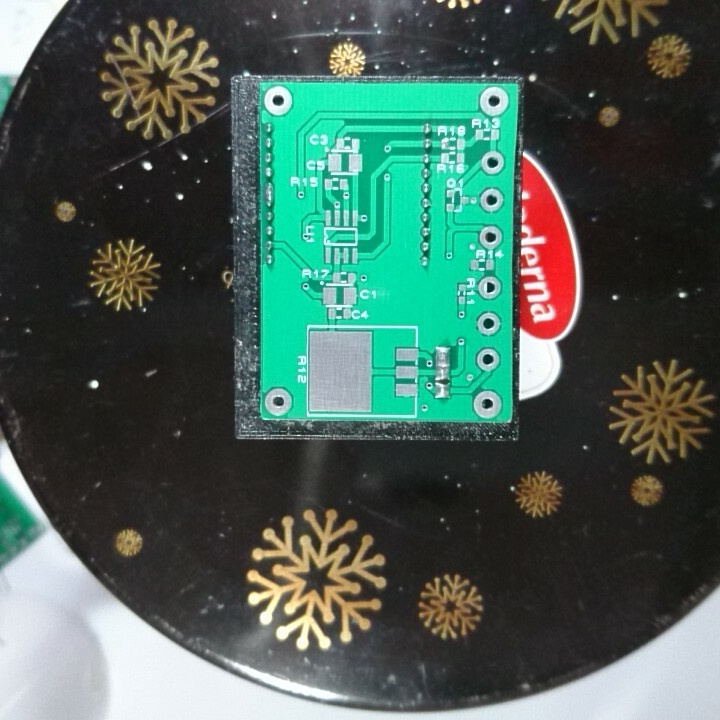F: (261, 81, 296, 117), (477, 84, 511, 118), (261, 384, 295, 418), (471, 387, 503, 420), (477, 186, 506, 216), (474, 310, 503, 338), (475, 346, 502, 375), (479, 149, 507, 176), (478, 224, 505, 251), (476, 273, 502, 301)
P: (432, 343, 454, 382), (262, 180, 279, 209)
